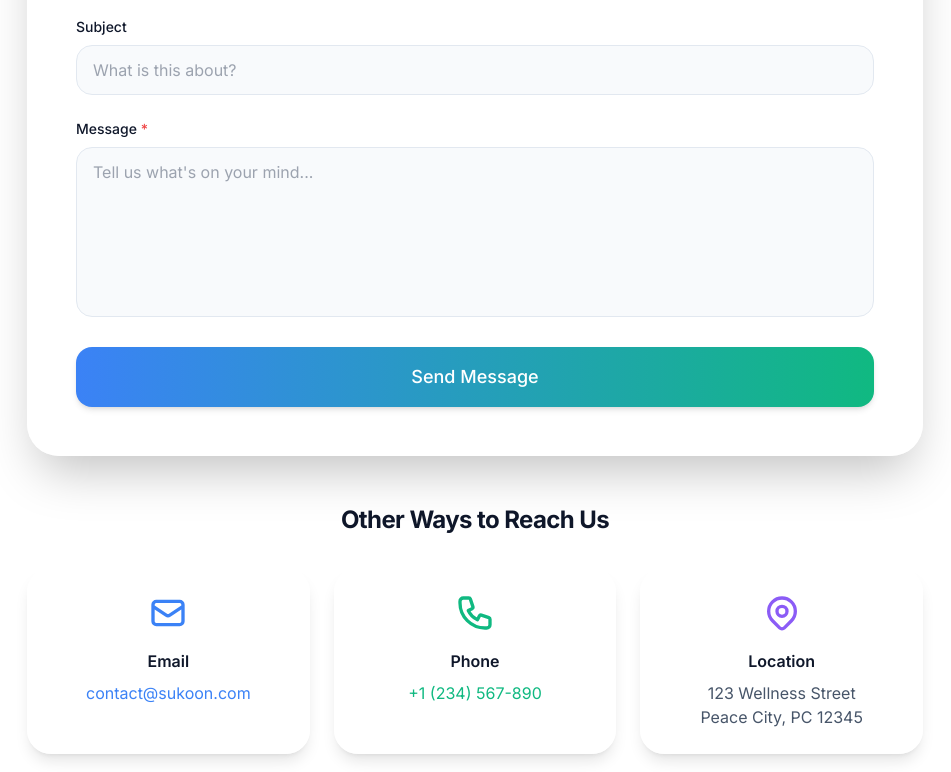
Test case: Contact Form Property-Based Tests › Property 37: should reject form submission with all empty fields
(page scrolled)
# Submit without filling any fields
What coordinates should you click on to do the following:
click the button "Send Message"
I would click on:
 (475, 377)
Its box is [76, 347, 874, 407].
(page scrolled)
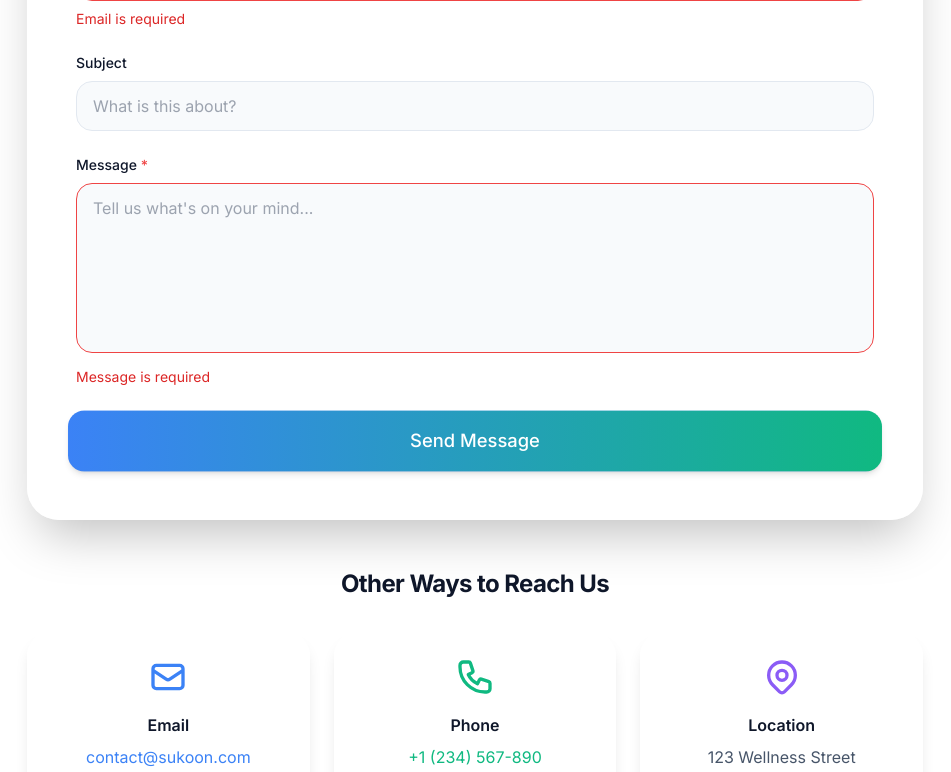
Expected: the text "Email is required" is shown, [76, 10, 185, 27]
Expected: the text "Message is required" is shown, [76, 368, 210, 385]
